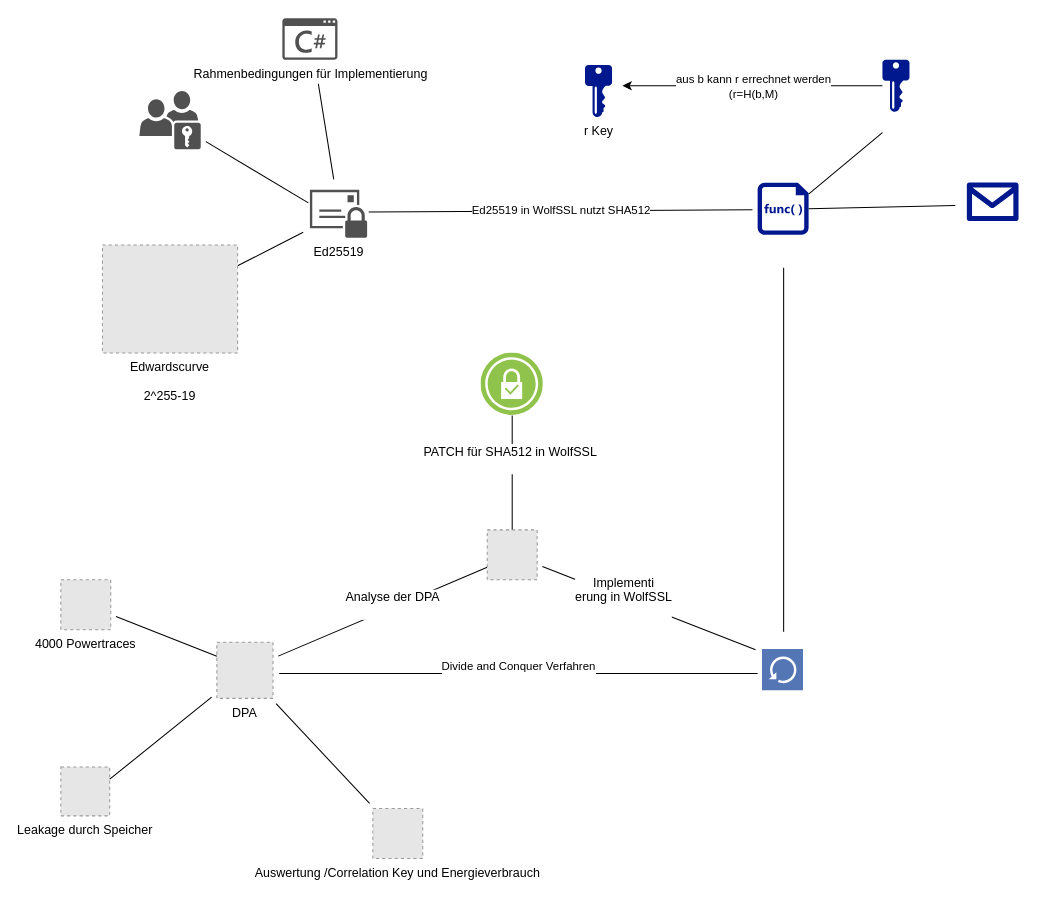
Some shapes in this 1037 by 898 pixel diagram are drawn without their labels. Grey dashed boxes stand in for pictures. The shapes that lost their labels are listed below. From the top down, each one's centre as x and y in pixels, then its label:
At point 895,85: "b Key".
At point 169,119: "Public/Private key generation".
At point 782,208: "SHA512".
At point 782,670: "Hashing".
